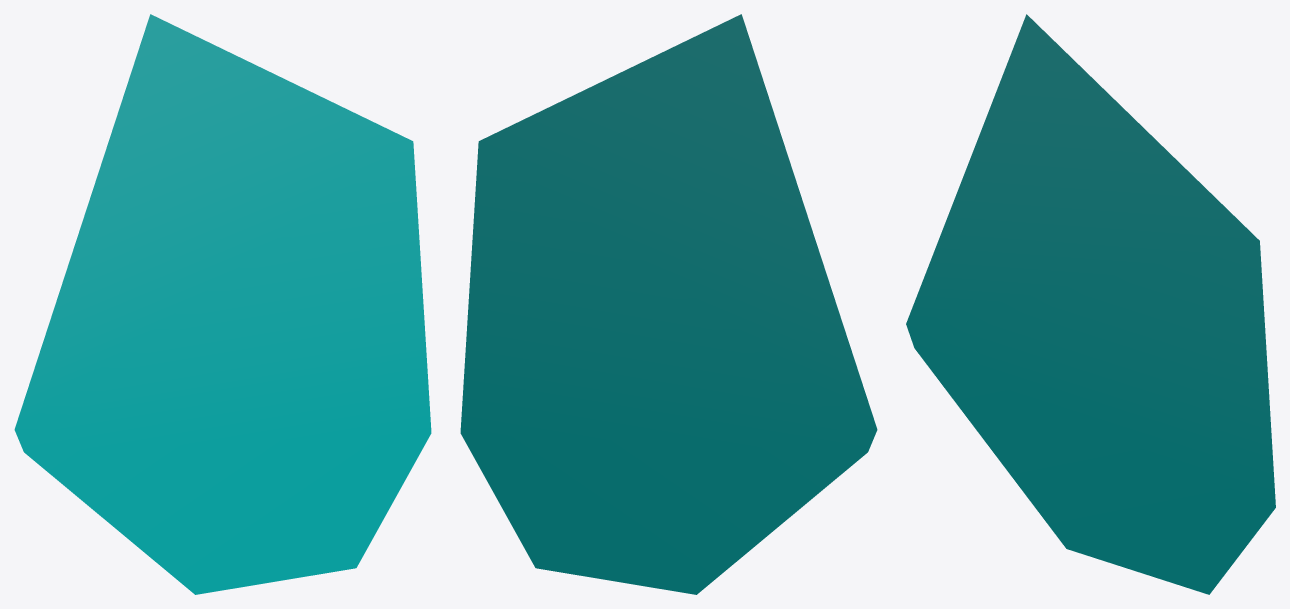
File: Fern_sbslY_High_sbslY_VarH_LOD2.fbx
3 renders of one model, left to right at view 1: azimuth 30°, elevation 25°; view 2: azimuth 150°, elevation 25°; view 3: azimuth 330°, elevation 25°, orthographic. The views are drawn at different scales.
Parts seen in each view (by area): view 1: _0954_VarH_LOD3; view 2: _0954_VarH_LOD3; view 3: _0954_VarH_LOD3.
Boxes of the visible parts, x1,y1,x2,y2 form: _0954_VarH_LOD3: [14, 14, 431, 594]; _0954_VarH_LOD3: [460, 14, 877, 594]; _0954_VarH_LOD3: [906, 14, 1275, 594].
Size of the model in its own units: 34.39 by 47.63 by 0.
